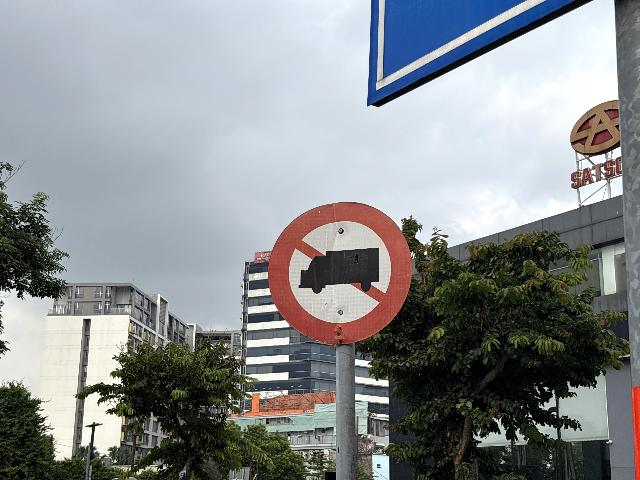cam-xe-tai: (268, 201, 414, 345)
